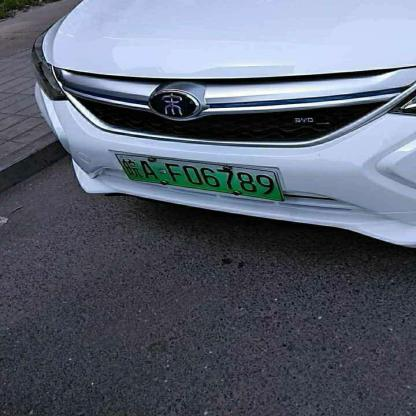lp: (114, 153, 282, 201)
